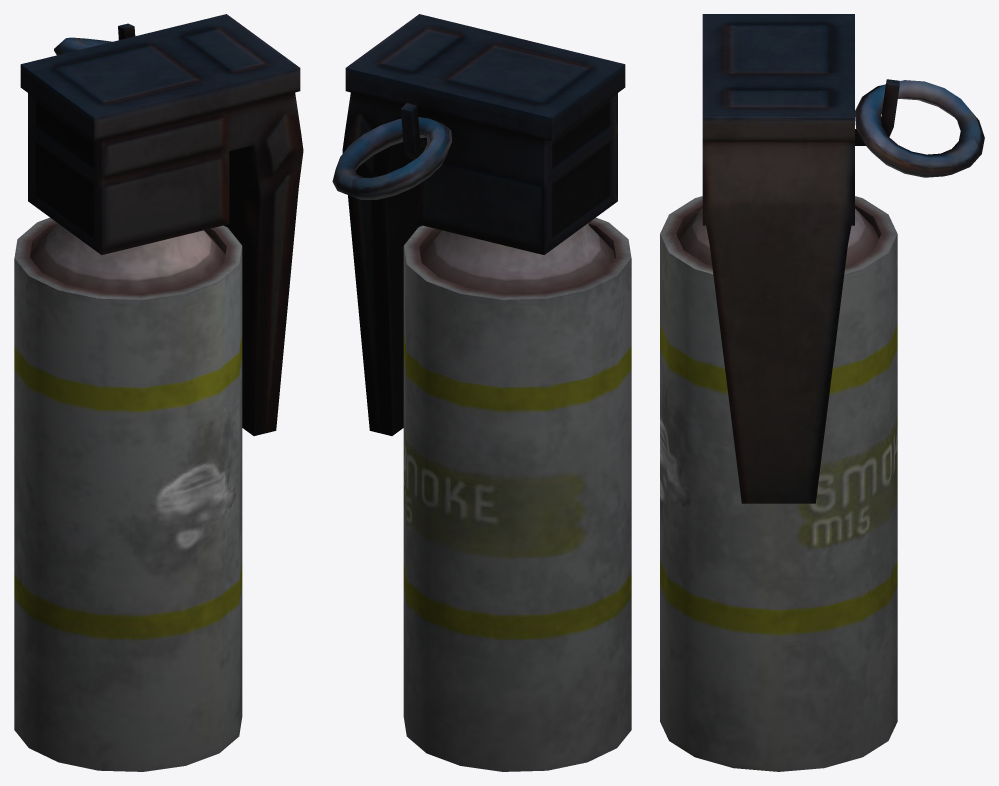
File: smoke_low.glb
The picture shows the model from 3 angles, left to right: view 1: azimuth 30°, elevation 25°; view 2: azimuth 150°, elevation 25°; view 3: azimuth 270°, elevation 25°; orthographic projection. The views are drawn at different scales.
Parts seen in each view (by area): view 1: smoke_low, smokehaut_low, incendiaryrond_low; view 2: smoke_low, smokehaut_low, incendiaryrond_low; view 3: smoke_low, smokehaut_low, incendiaryrond_low.
Part boxes in pixels (x1,y1,x2,y2): smoke_low: (14, 217, 242, 771); smokehaut_low: (20, 14, 303, 435); incendiaryrond_low: (54, 37, 112, 55); smoke_low: (403, 217, 631, 771); smokehaut_low: (342, 14, 625, 435); incendiaryrond_low: (332, 117, 451, 199); smoke_low: (660, 196, 897, 771); smokehaut_low: (702, 14, 899, 503); incendiaryrond_low: (855, 80, 984, 177).
Size of the model in its own units: 0.0623 by 0.1626 by 0.0712.
Materials: 1 (1 with a texture image).
